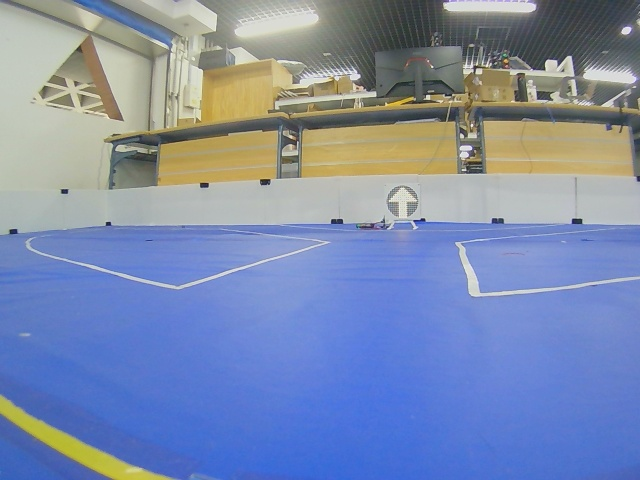straight_yellow: (387, 185, 418, 219)
